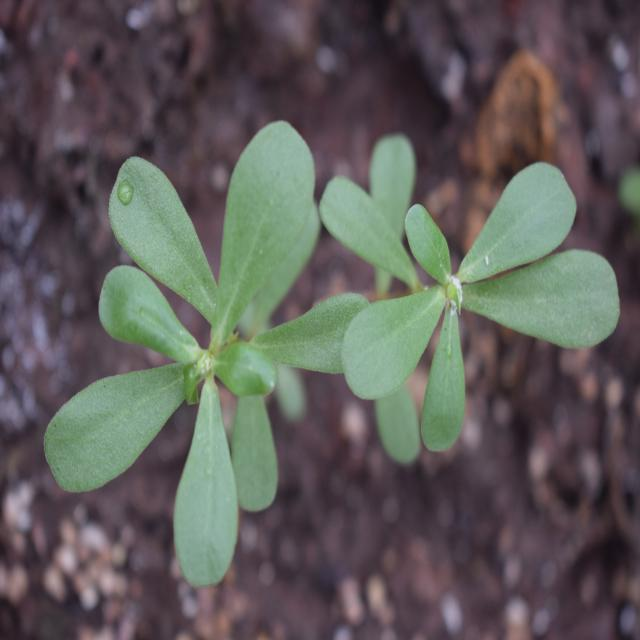purslane: (37, 118, 628, 562)
